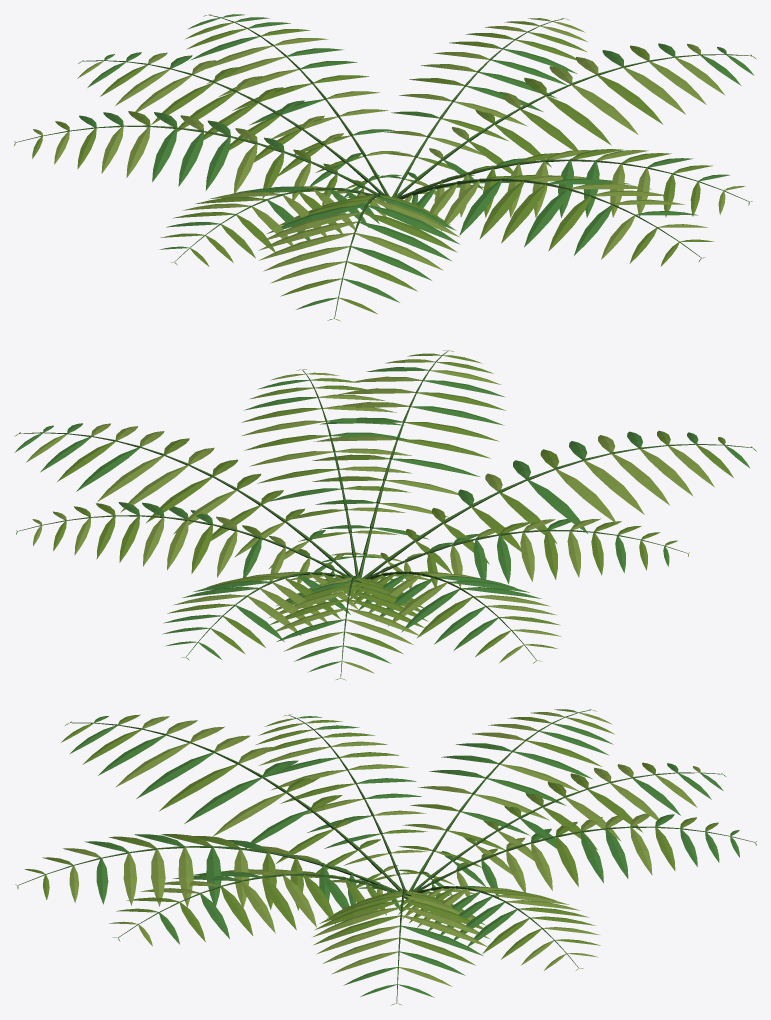
The model's file is fern_small.glb.
The picture shows the model from 3 angles, top to bottom: view 1: azimuth 30°, elevation 25°; view 2: azimuth 150°, elevation 25°; view 3: azimuth 270°, elevation 25°; orthographic projection. The views are drawn at different scales.
Visible parts, largest first — view 1: fern_small; view 2: fern_small; view 3: fern_small.
Boxes of the visible parts, <box> form: fern_small: <box>14,14,756,321</box>; fern_small: <box>14,350,756,680</box>; fern_small: <box>15,709,756,1005</box>.
Bounding box in the file's own units: 1.33 × 0.1784 × 1.38.
